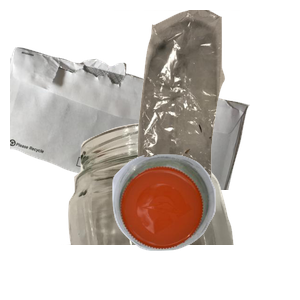glass: (61, 120, 287, 300)
paper: (10, 45, 250, 225)
plastic: (110, 152, 300, 300)
trash: (114, 10, 300, 190)
